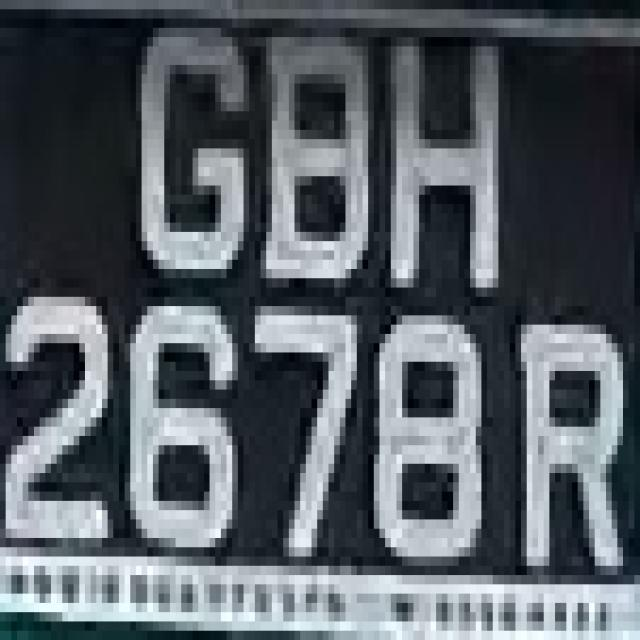2: (6, 250, 108, 584)
6: (119, 278, 243, 575)
7: (244, 269, 362, 584)
8: (374, 287, 504, 594)
B: (255, 9, 379, 316)
G: (125, 37, 249, 306)
H: (374, 19, 515, 306)
R: (509, 288, 628, 612)
